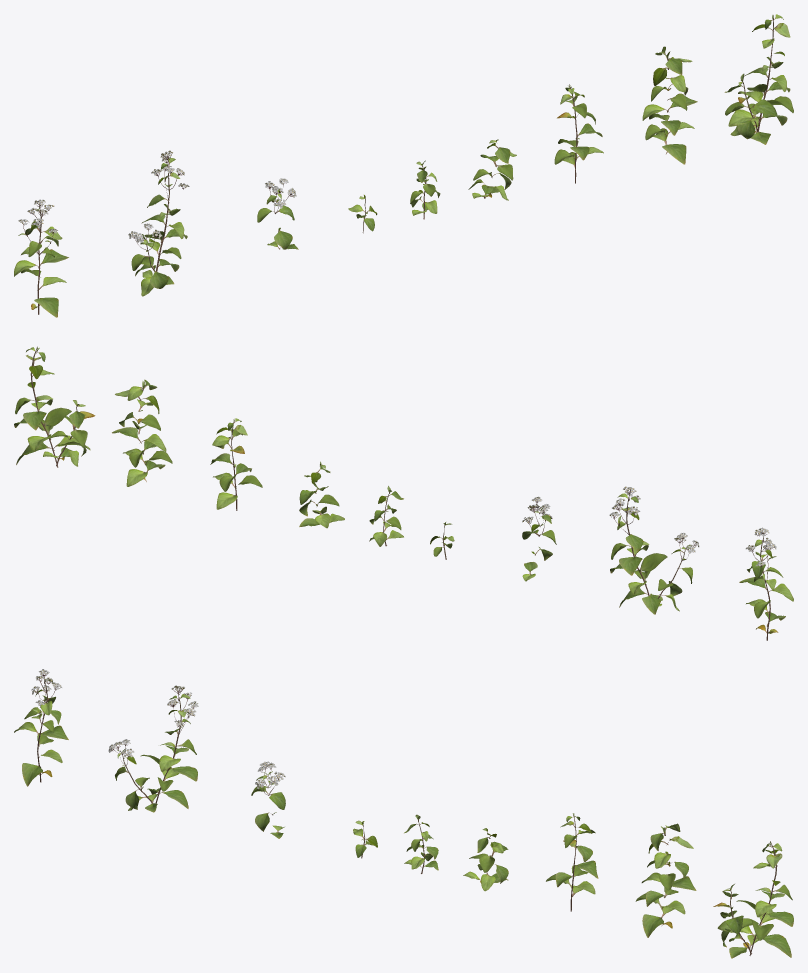
The model's file is shrub1.glb.
3 views of the same model, one above another, from view 1: azimuth 30°, elevation 25°; view 2: azimuth 150°, elevation 25°; view 3: azimuth 330°, elevation 25° (orthographic).
Parts seen in each view (by area): view 1: shrub_01_a; view 2: shrub_01_a; view 3: shrub_01_a.
Part boxes in pixels (bbox=[...]): shrub_01_a: bbox=[14, 14, 793, 317]; shrub_01_a: bbox=[14, 346, 793, 640]; shrub_01_a: bbox=[14, 669, 793, 958].
Bounding box in the file's own units: 2.58 × 0.3997 × 0.2222.
Materials: 1 (1 with a texture image).
